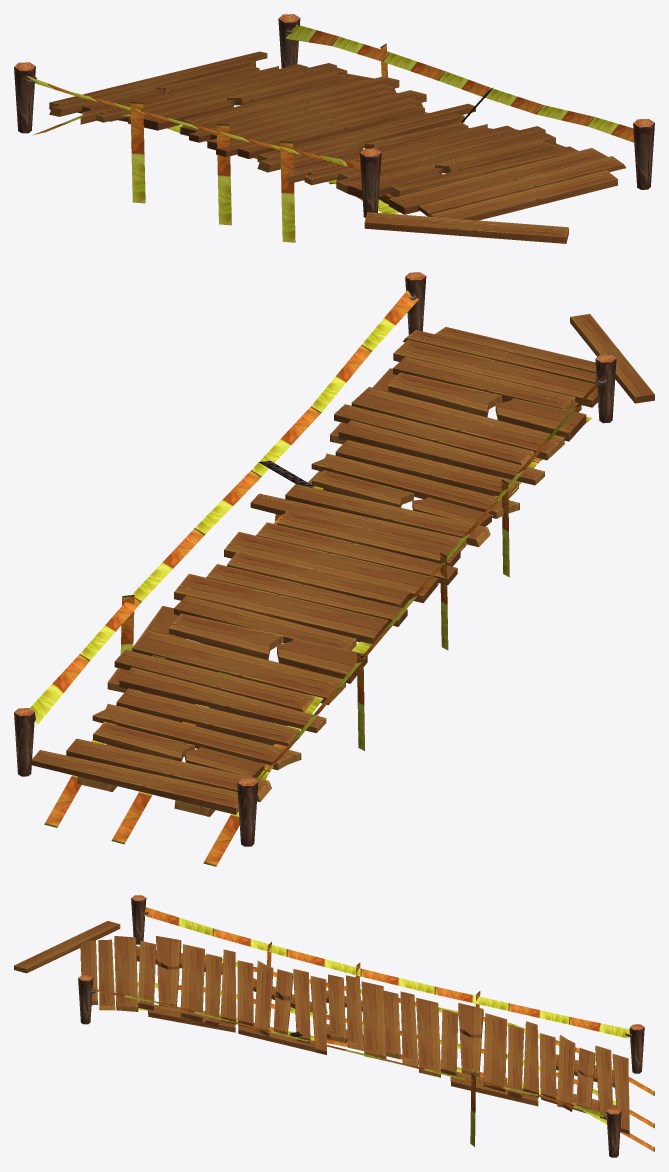
The model's file is qiao_008.FBX.
3 views of the same model, one above another, from view 1: azimuth 30°, elevation 25°; view 2: azimuth 150°, elevation 25°; view 3: azimuth 270°, elevation 25° (orthographic). The views are drawn at different scales.
Visible parts, largest first — view 1: qiao_008, Group005; view 2: qiao_008, Group005; view 3: qiao_008, Group005.
Part boxes in pixels (bbox=[...]): qiao_008: bbox=[14, 14, 654, 243]; Group005: bbox=[27, 24, 634, 242]; qiao_008: bbox=[14, 272, 654, 846]; Group005: bbox=[30, 290, 602, 866]; qiao_008: bbox=[14, 895, 644, 1157]; Group005: bbox=[91, 907, 654, 1151].
Size of the model in its own units: 786 by 663 by 2109.
2 materials, 2 textured.
